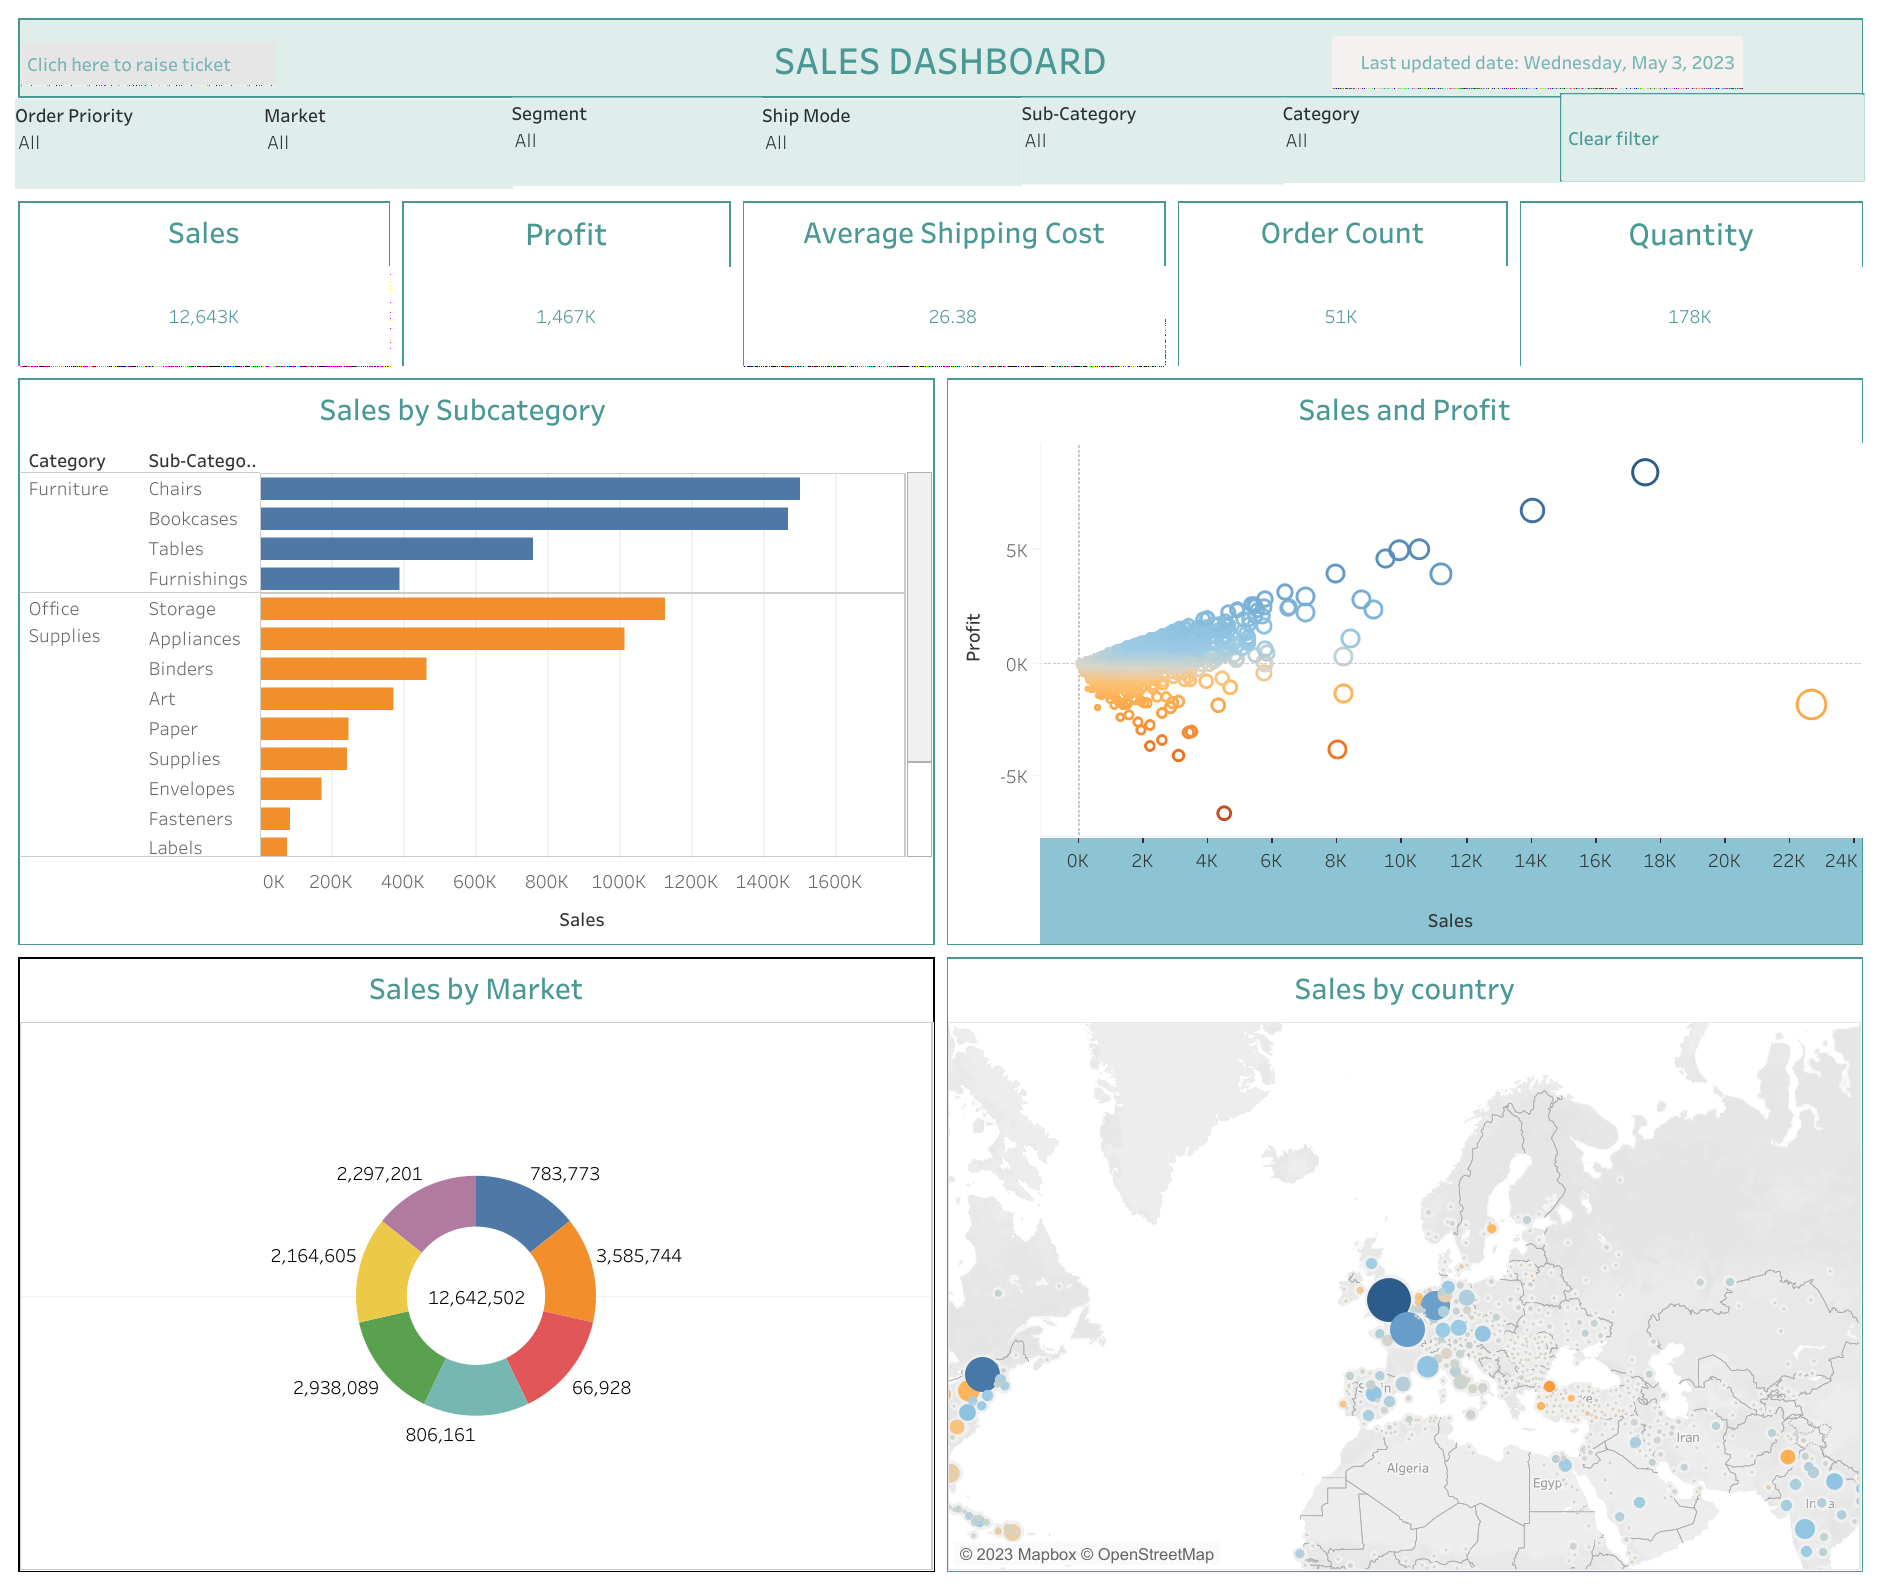

The page's visual inventory and layout, read from the dashboard file:
{"tool":"tableau","page":{"name":"Sales dashboard","canvas":[1000,1000],"units":"permille","ordinal":1},"visuals":[{"type":"title","box":[7.6,7.5,984.9,57.6]},{"type":"worksheet","title":"Last  Refresh Date","mark":"Automatic","box":[707.9,22.6,217.8,32.1]},{"type":"worksheet","title":"Ticket","mark":"Automatic","box":[11.2,26.4,134.9,26.4]},{"type":"worksheet","title":"Clear filter","mark":"Automatic","box":[829.6,58.5,161.8,55.7]},{"type":"filter","title":"Sales","param":"[federated.0w289ar1f2d44n1beiqtg1v5zt71].[none:Segment:nk]","box":[271.7,61.3,133.6,55.7]},{"type":"filter","title":"Sales","param":"[federated.0w289ar1f2d44n1beiqtg1v5zt71].[none:Sub-Category:nk]","box":[542.8,61.3,139.5,54.7]},{"type":"filter","title":"Sales","param":"[federated.0w289ar1f2d44n1beiqtg1v5zt71].[none:Category:nk]","box":[681.6,61.3,148.7,53.8]},{"type":"filter","title":"Sales","param":"[federated.0w289ar1f2d44n1beiqtg1v5zt71].[none:Order Priority:nk]","box":[7.9,62.3,132.9,56.6]},{"type":"filter","title":"Sales","param":"[federated.0w289ar1f2d44n1beiqtg1v5zt71].[none:Market:nk]","box":[140.1,62.3,132.9,56.6]},{"type":"filter","title":"Sales","param":"[federated.0w289ar1f2d44n1beiqtg1v5zt71].[none:Ship Mode:nk]","box":[405.3,62.3,137.5,54.7]},{"type":"blank","box":[7.9,120.8,983.6,101.9]},{"type":"worksheet","title":"Sales","mark":"Automatic","box":[7.6,122.2,203.6,111.8]},{"type":"worksheet","title":"Profit","mark":"Automatic","box":[211.2,122.2,180.7,111.8]},{"type":"worksheet","title":"Average Shipping Cost","mark":"Automatic","box":[391.9,122.2,230.5,111.8]},{"type":"worksheet","title":"Order Count","mark":"Automatic","box":[622.4,122.2,181.4,111.8]},{"type":"worksheet","title":"Quantity","mark":"Automatic","box":[803.8,122.2,188.6,111.8]},{"type":"worksheet","title":"Sales by Subcategory","mark":"Automatic","rows":["Category","Sub-Category"],"cols":["Sales"],"box":[7.6,233.9,492.4,364.2]},{"type":"worksheet","title":"Sales and Profit","mark":"Automatic","rows":["Profit"],"cols":["Sales"],"box":[500,233.9,492.4,364.2]},{"type":"worksheet","title":"Sales by Market","mark":"Pie","rows":["Calculation_1187542945663819777","Calculation_1187542945663819777"],"box":[7.6,598.1,492.4,394.3]},{"type":"worksheet","title":"Sales by country","mark":"Automatic","box":[500,598.1,492.4,394.3]}]}

Visuals, with their boxes on the dashboard's canvas, which has no fixed pixel size, in thousandths of its width and height (x1, y1, x2, y2). These are canvas units, not pixel positions in the 1880x1589 screenshot, which may show the page scaled, cropped or inside an application window:
title: [left=8, top=8, right=992, bottom=65]
"Last  Refresh Date" worksheet: [left=708, top=23, right=926, bottom=55]
"Ticket" worksheet: [left=11, top=26, right=146, bottom=53]
"Clear filter" worksheet: [left=830, top=58, right=991, bottom=114]
"Sales" filter: [left=272, top=61, right=405, bottom=117]
"Sales" filter: [left=543, top=61, right=682, bottom=116]
"Sales" filter: [left=682, top=61, right=830, bottom=115]
"Sales" filter: [left=8, top=62, right=141, bottom=119]
"Sales" filter: [left=140, top=62, right=273, bottom=119]
"Sales" filter: [left=405, top=62, right=543, bottom=117]
blank: [left=8, top=121, right=992, bottom=223]
"Sales" worksheet: [left=8, top=122, right=211, bottom=234]
"Profit" worksheet: [left=211, top=122, right=392, bottom=234]
"Average Shipping Cost" worksheet: [left=392, top=122, right=622, bottom=234]
"Order Count" worksheet: [left=622, top=122, right=804, bottom=234]
"Quantity" worksheet: [left=804, top=122, right=992, bottom=234]
"Sales by Subcategory" worksheet: [left=8, top=234, right=500, bottom=598]
"Sales and Profit" worksheet: [left=500, top=234, right=992, bottom=598]
"Sales by Market" worksheet (Pie marks): [left=8, top=598, right=500, bottom=992]
"Sales by country" worksheet: [left=500, top=598, right=992, bottom=992]
